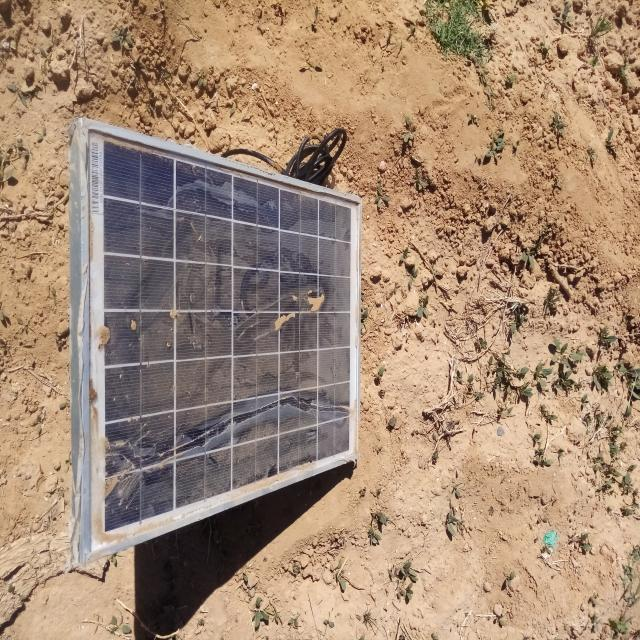faulty: (84, 127, 361, 560)
